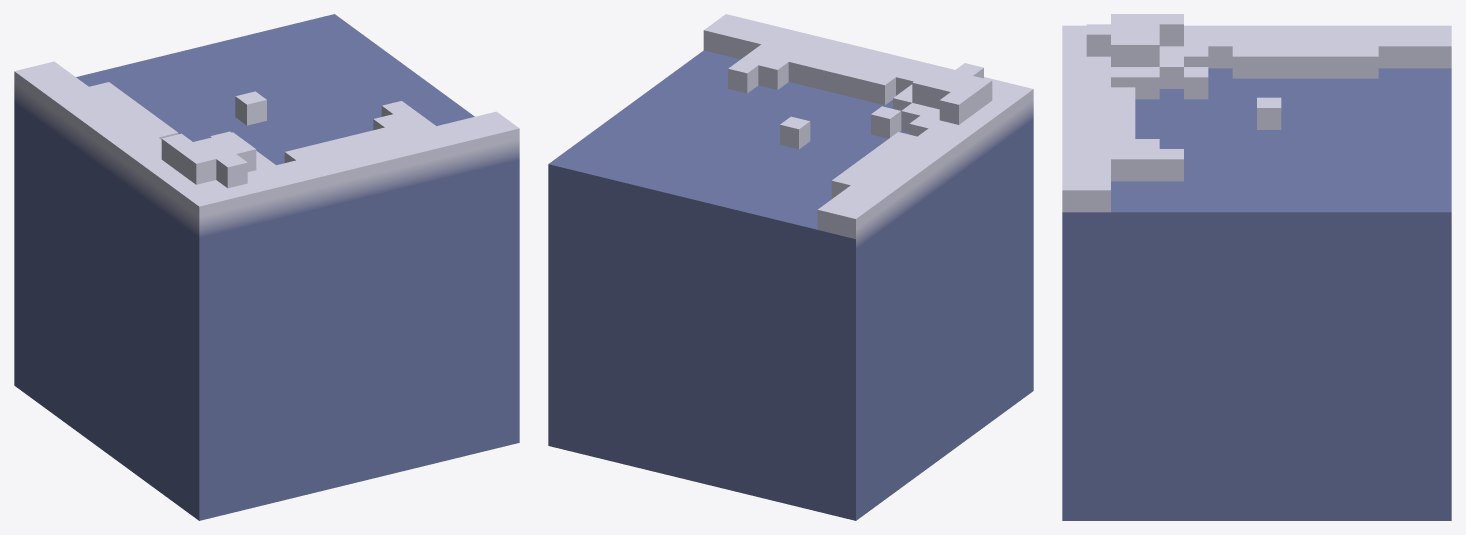
Rendered from GroundCorner_3.fbx.
3 renders of one model, left to right at view 1: azimuth 30°, elevation 25°; view 2: azimuth 150°, elevation 25°; view 3: azimuth 270°, elevation 25°, orthographic. The views are drawn at different scales.
Parts seen in each view (by area): view 1: GroundCorner_3; view 2: GroundCorner_3; view 3: GroundCorner_3.
Part boxes in pixels (x1,y1,x2,y2): GroundCorner_3: [14, 14, 519, 520]; GroundCorner_3: [548, 14, 1033, 520]; GroundCorner_3: [1062, 14, 1451, 520].
Bounding box in the file's own units: 16 × 16 × 16.
1 material, 1 textured.
